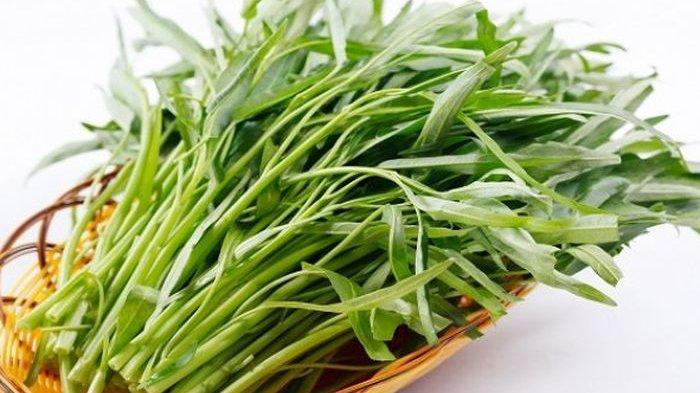Kangkung: (134, 58, 561, 266)
